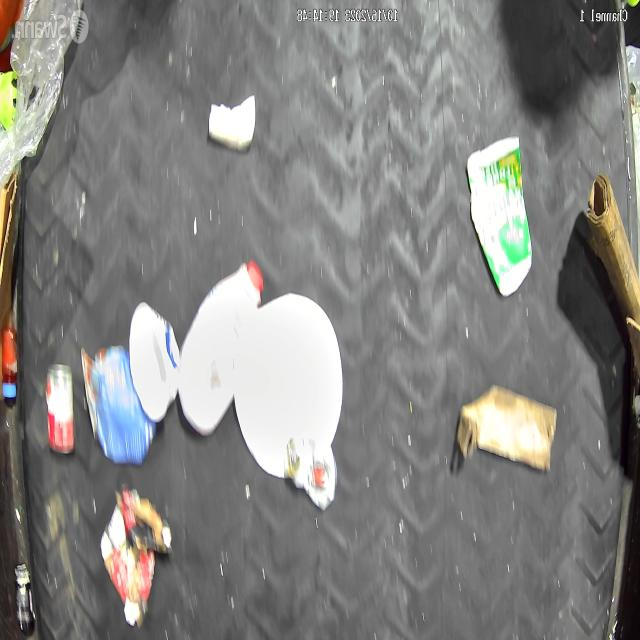can: (43, 359, 78, 464)
milk_jug: (175, 260, 268, 437)
